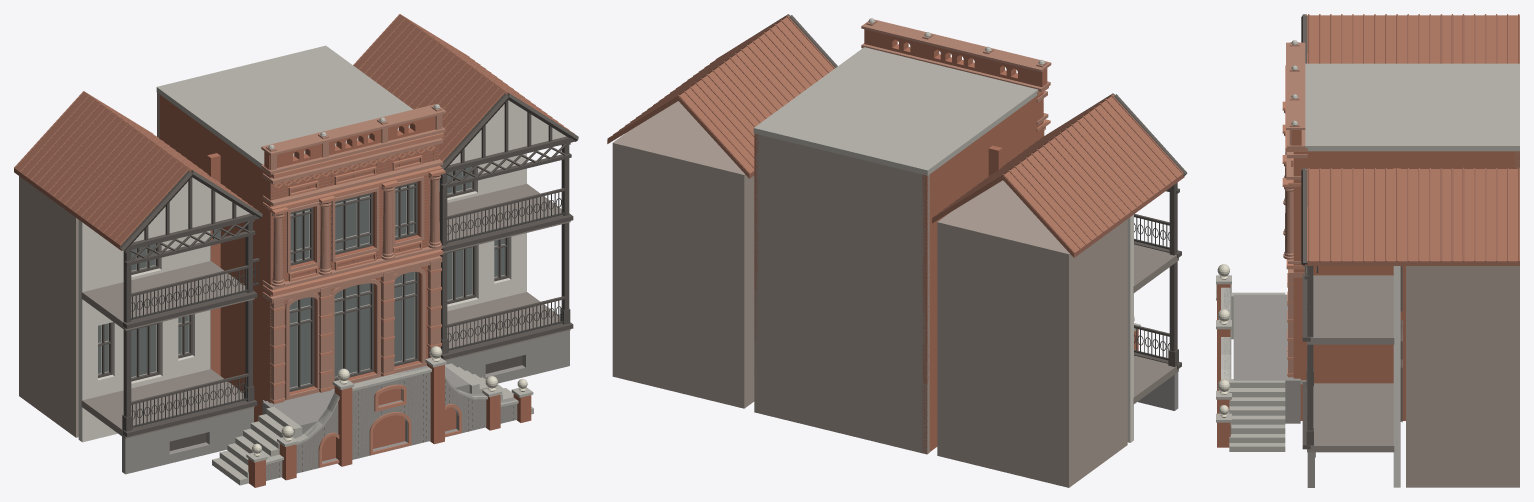
Rendered from jingan-dasheng-drummond-residence-web.glb.
3 renders of one model, left to right at view 1: azimuth 30°, elevation 25°; view 2: azimuth 150°, elevation 25°; view 3: azimuth 270°, elevation 25°, orthographic. The views are drawn at different scales.
Visible parts, largest first — view 1: 大胜胡同德莱蒙德住宅南向花园立面; view 2: 大胜胡同德莱蒙德住宅南向花园立面; view 3: 大胜胡同德莱蒙德住宅南向花园立面.
Boxes of the visible parts, box(x1,y1,x2,y2) form: 大胜胡同德莱蒙德住宅南向花园立面: box(14, 14, 578, 487); 大胜胡同德莱蒙德住宅南向花园立面: box(607, 14, 1187, 487); 大胜胡同德莱蒙德住宅南向花园立面: box(1216, 14, 1519, 487).
Bounding box in the file's own units: 16.65 × 10.46 × 9.6.
